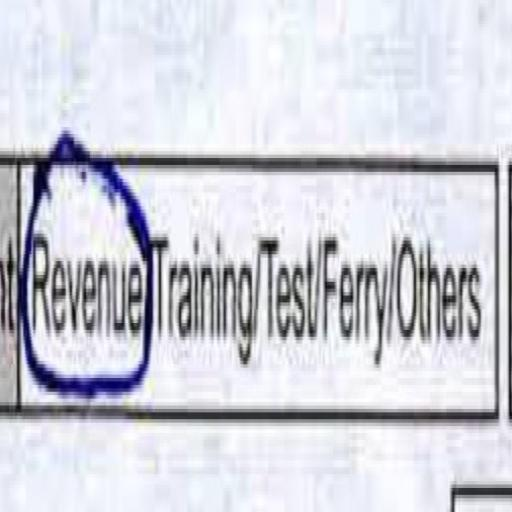check: (18, 82, 150, 459)
